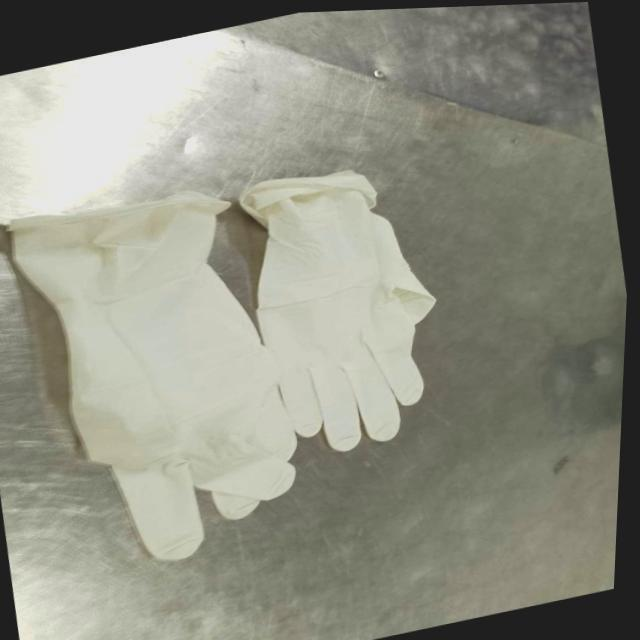General: (2, 2, 633, 638)
Infectious: (7, 189, 298, 561), (239, 168, 437, 452)
